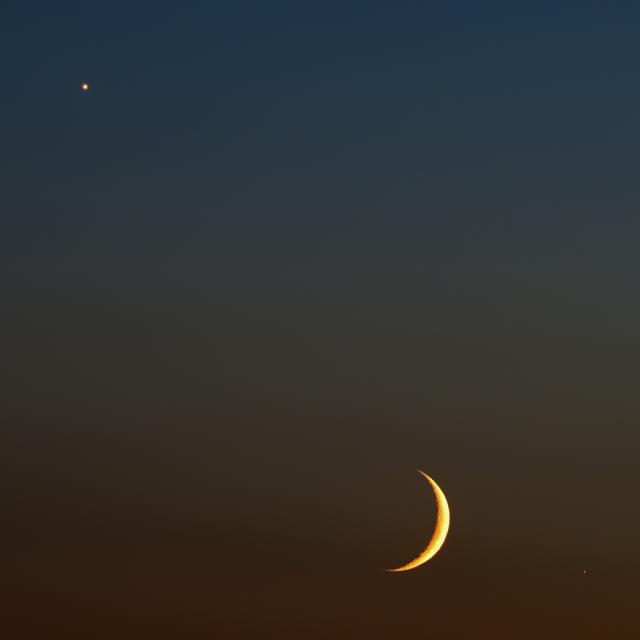moon: (360, 462, 464, 578)
